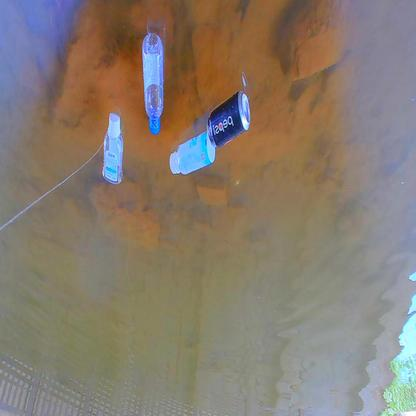can: (207, 90, 250, 148)
plastic bottle: (141, 33, 164, 134), (167, 131, 218, 176), (101, 113, 125, 185)
